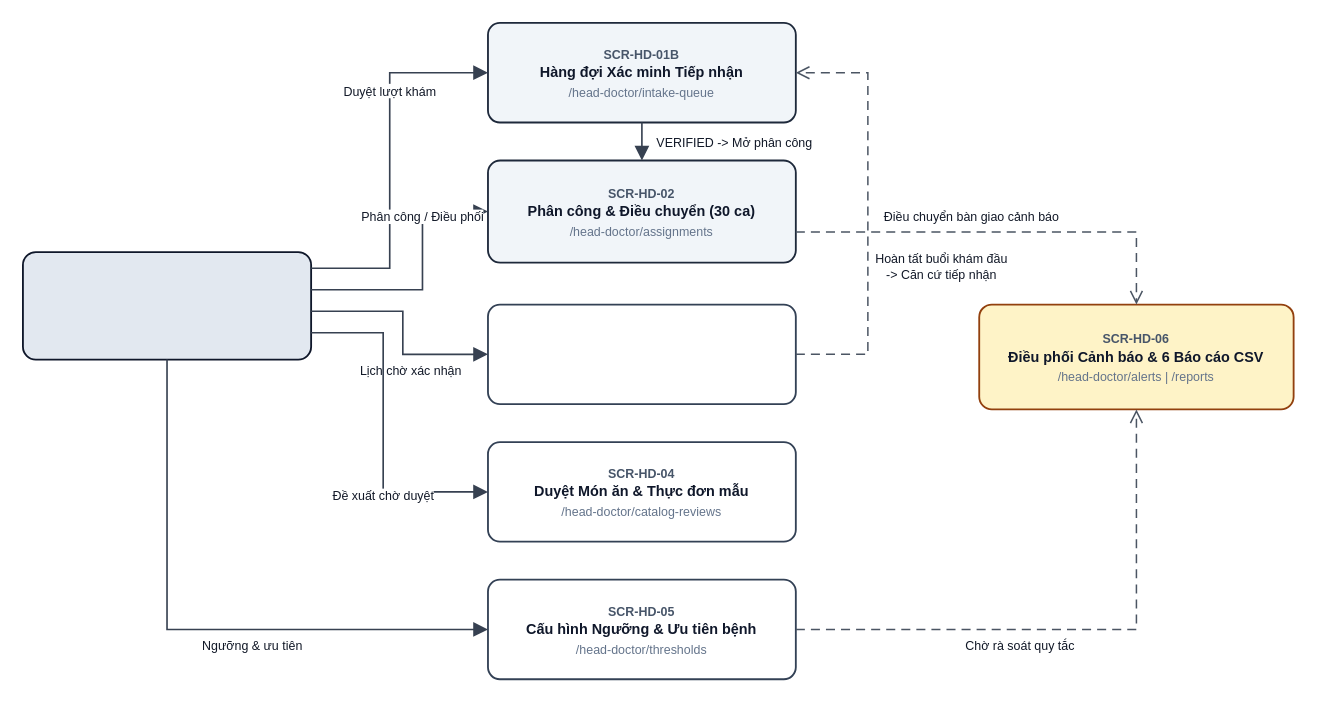
The diagram is 1318 pixels wide and 703 high, and some of its shapes have lost their labels. Each missing label, with the centre of its shape:
"SCR-HD-01 Bảng điều phối Trưởng khoa /head-doctor/dashboard" goes at [166,305].
"SCR-HD-03 Xác nhận Lịch khám & Tái khám /head-doctor/appointments" goes at [641,353].
